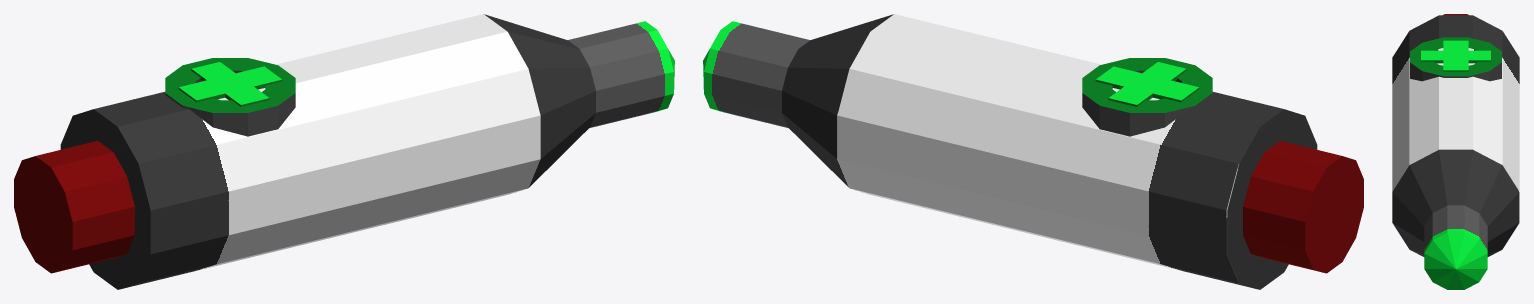
The model's file is pen.fbx.
The picture shows the model from 3 angles, left to right: view 1: azimuth 30°, elevation 25°; view 2: azimuth 150°, elevation 25°; view 3: azimuth 270°, elevation 25°; orthographic projection. The views are drawn at different scales.
Parts seen in each view (by area): view 1: tube; view 2: tube; view 3: tube.
Part boxes in pixels (x1,y1,x2,y2): tube: (14, 14, 674, 289); tube: (703, 14, 1363, 289); tube: (1392, 14, 1519, 289).
Size of the model in its own units: 50.62 by 12.81 by 12.5.
1 material, 1 textured.
